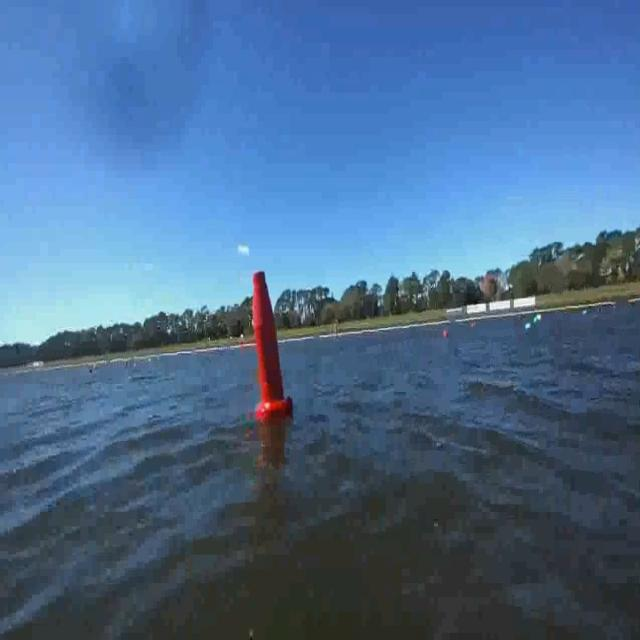red-buoy: (444, 328, 450, 336)
red-column-buoy: (251, 266, 292, 420)
